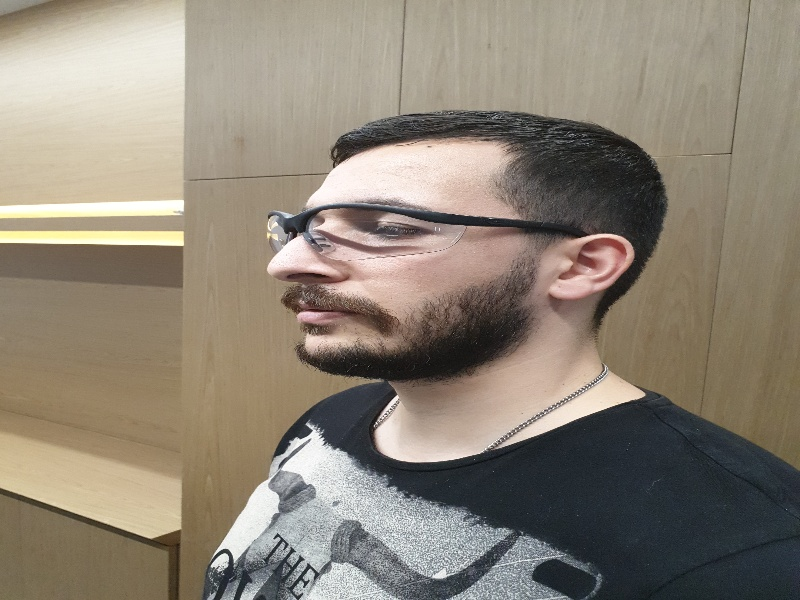Gozluk: (267, 202, 591, 264)
